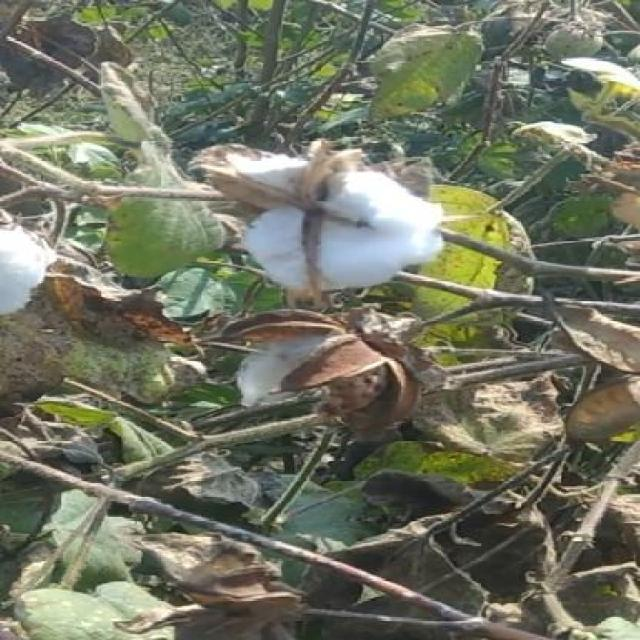cotton_ready: (178, 132, 456, 292)
